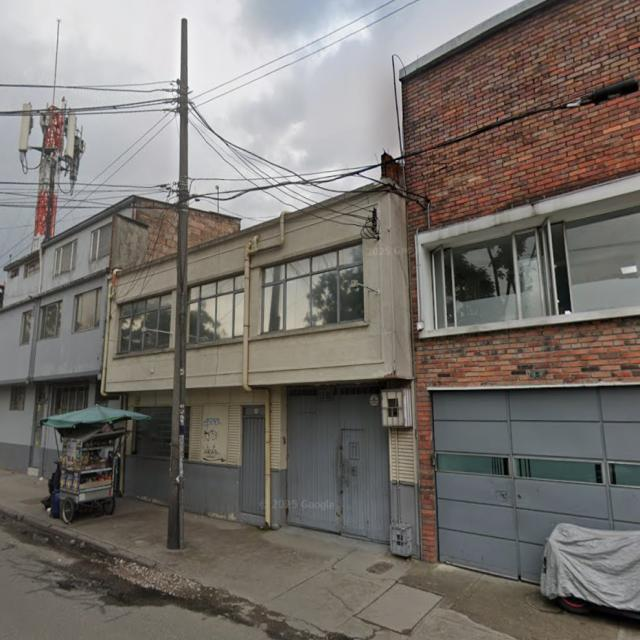fachada: (401, 0, 639, 580), (184, 179, 417, 542), (0, 196, 176, 473)
poste: (168, 19, 189, 549)
